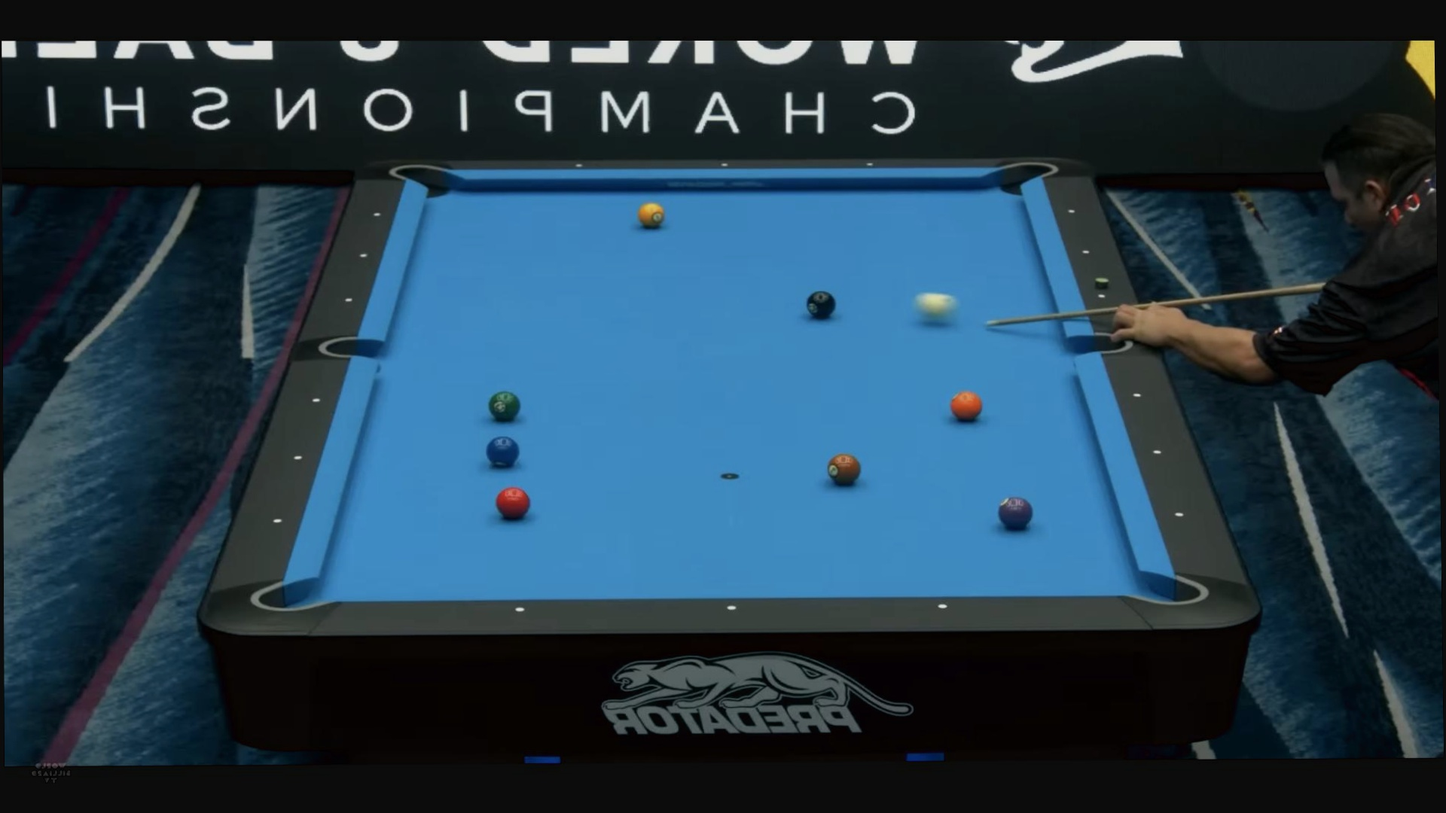Black: (806, 291, 836, 317)
Cue: (917, 292, 955, 322)
Solid: (937, 600, 951, 612), (723, 602, 737, 614), (513, 604, 527, 616), (271, 516, 284, 527), (309, 395, 322, 406), (291, 452, 303, 463), (1152, 448, 1162, 456), (1175, 510, 1184, 518), (1133, 391, 1142, 399), (1082, 249, 1091, 257), (360, 252, 368, 260), (1067, 208, 1075, 216), (345, 296, 353, 303), (373, 211, 381, 218), (1098, 293, 1106, 300), (720, 161, 728, 168), (575, 163, 583, 169), (866, 161, 873, 167)
Striped: (827, 453, 861, 485), (998, 497, 1033, 528), (496, 487, 530, 518), (486, 436, 520, 467), (488, 391, 521, 420), (951, 391, 983, 420), (638, 202, 664, 228)
